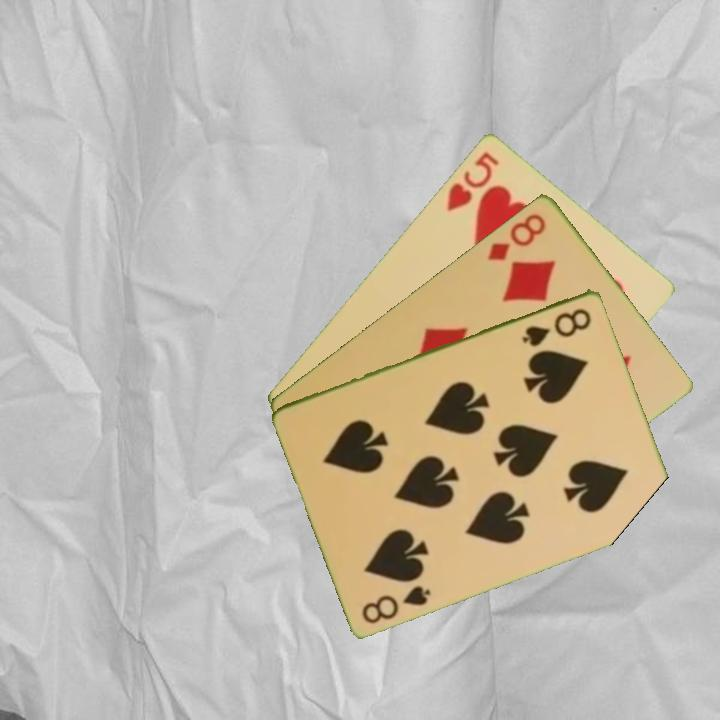5h: (443, 147, 502, 213)
8d: (483, 209, 549, 263)
8s: (358, 581, 434, 627), (519, 304, 594, 349)
